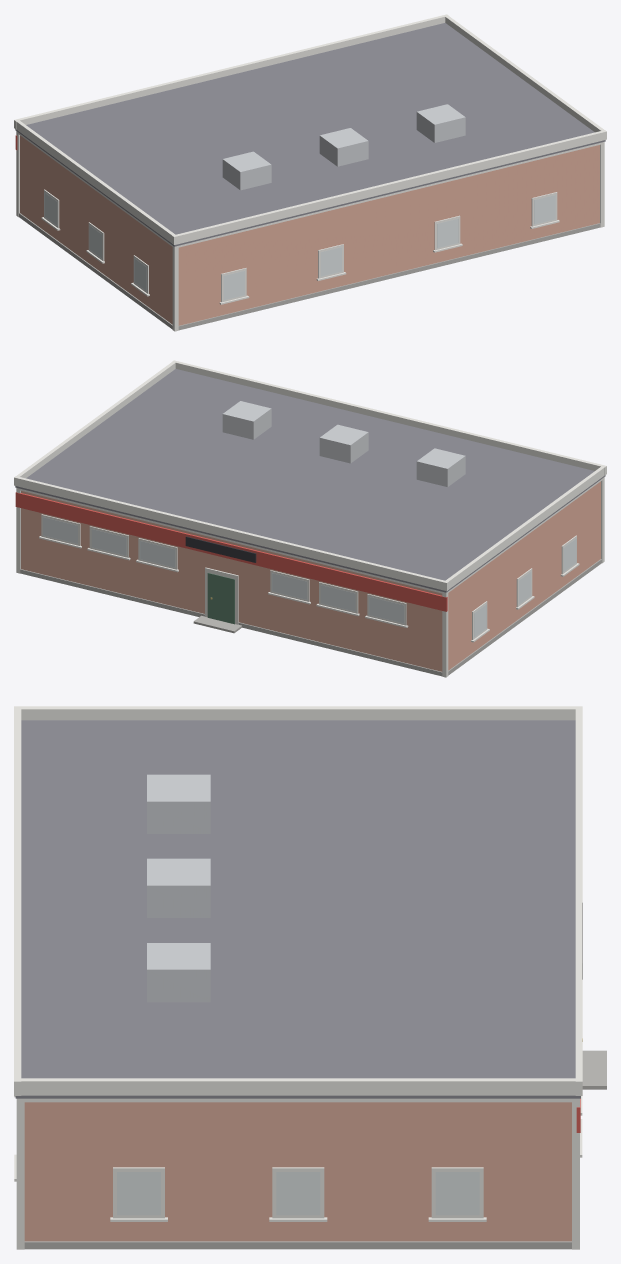
The model's file is gym_b.glb.
The picture shows the model from 3 angles, top to bottom: view 1: azimuth 30°, elevation 25°; view 2: azimuth 150°, elevation 25°; view 3: azimuth 270°, elevation 25°; orthographic projection. The views are drawn at different scales.
Visible parts, largest first — view 1: roof, body; view 2: roof, body; view 3: roof, body.
Part boxes in pixels (x1,y1,x2,y2): roof: (14,14,606,246); body: (15,131,604,331); roof: (14,360,606,592); body: (15,477,604,677); roof: (14,706,582,1098); body: (14,903,606,1249).
Size of the model in its own units: 22.3 by 5.3 by 14.89.
